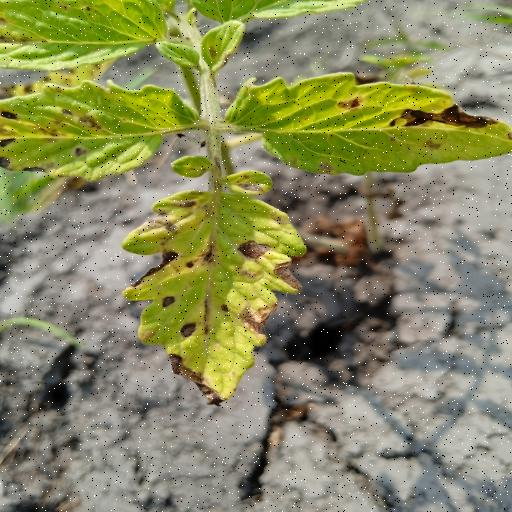Tomato_Brown_Spots: (125, 154, 311, 412), (220, 71, 512, 176), (0, 77, 206, 182)
